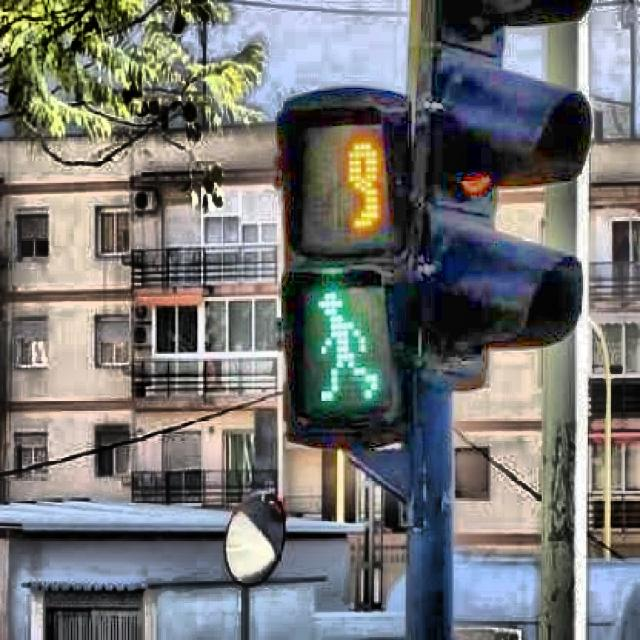semaforo pedestre: (210, 41, 481, 547)
